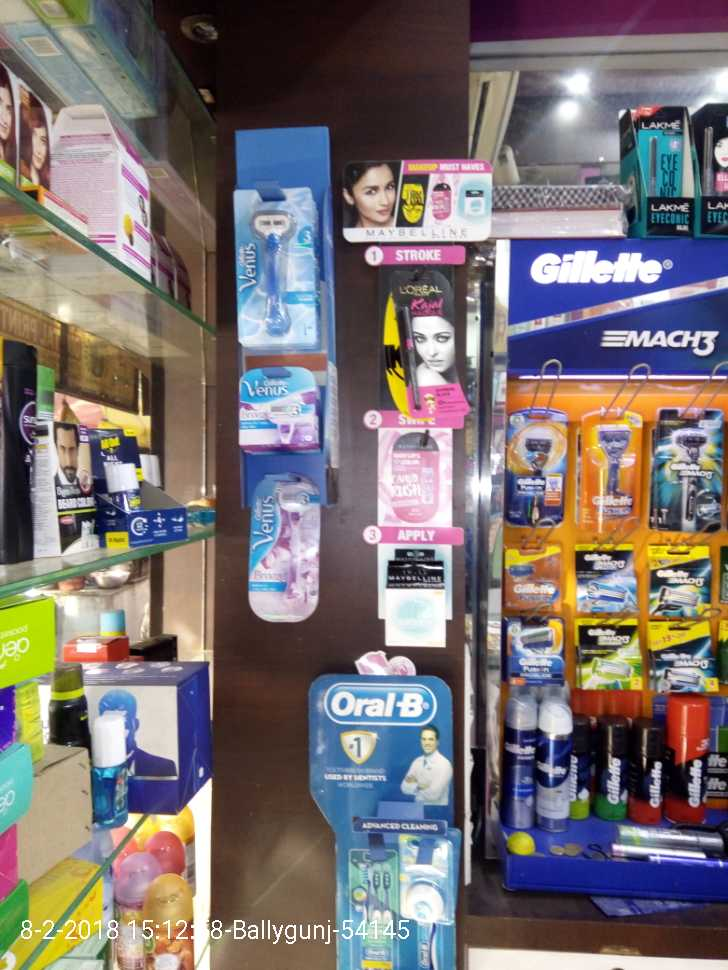beauty: (227, 178, 326, 360), (245, 466, 333, 622), (657, 413, 728, 535), (227, 366, 326, 448), (507, 391, 567, 525), (573, 413, 638, 528), (667, 693, 713, 832), (647, 616, 714, 693), (642, 551, 713, 622), (504, 607, 566, 688), (574, 544, 641, 615), (504, 696, 539, 828), (580, 618, 642, 691), (536, 703, 573, 819), (502, 541, 563, 610), (595, 712, 633, 821), (630, 719, 667, 826)
pharmacy: (404, 835, 455, 929)
